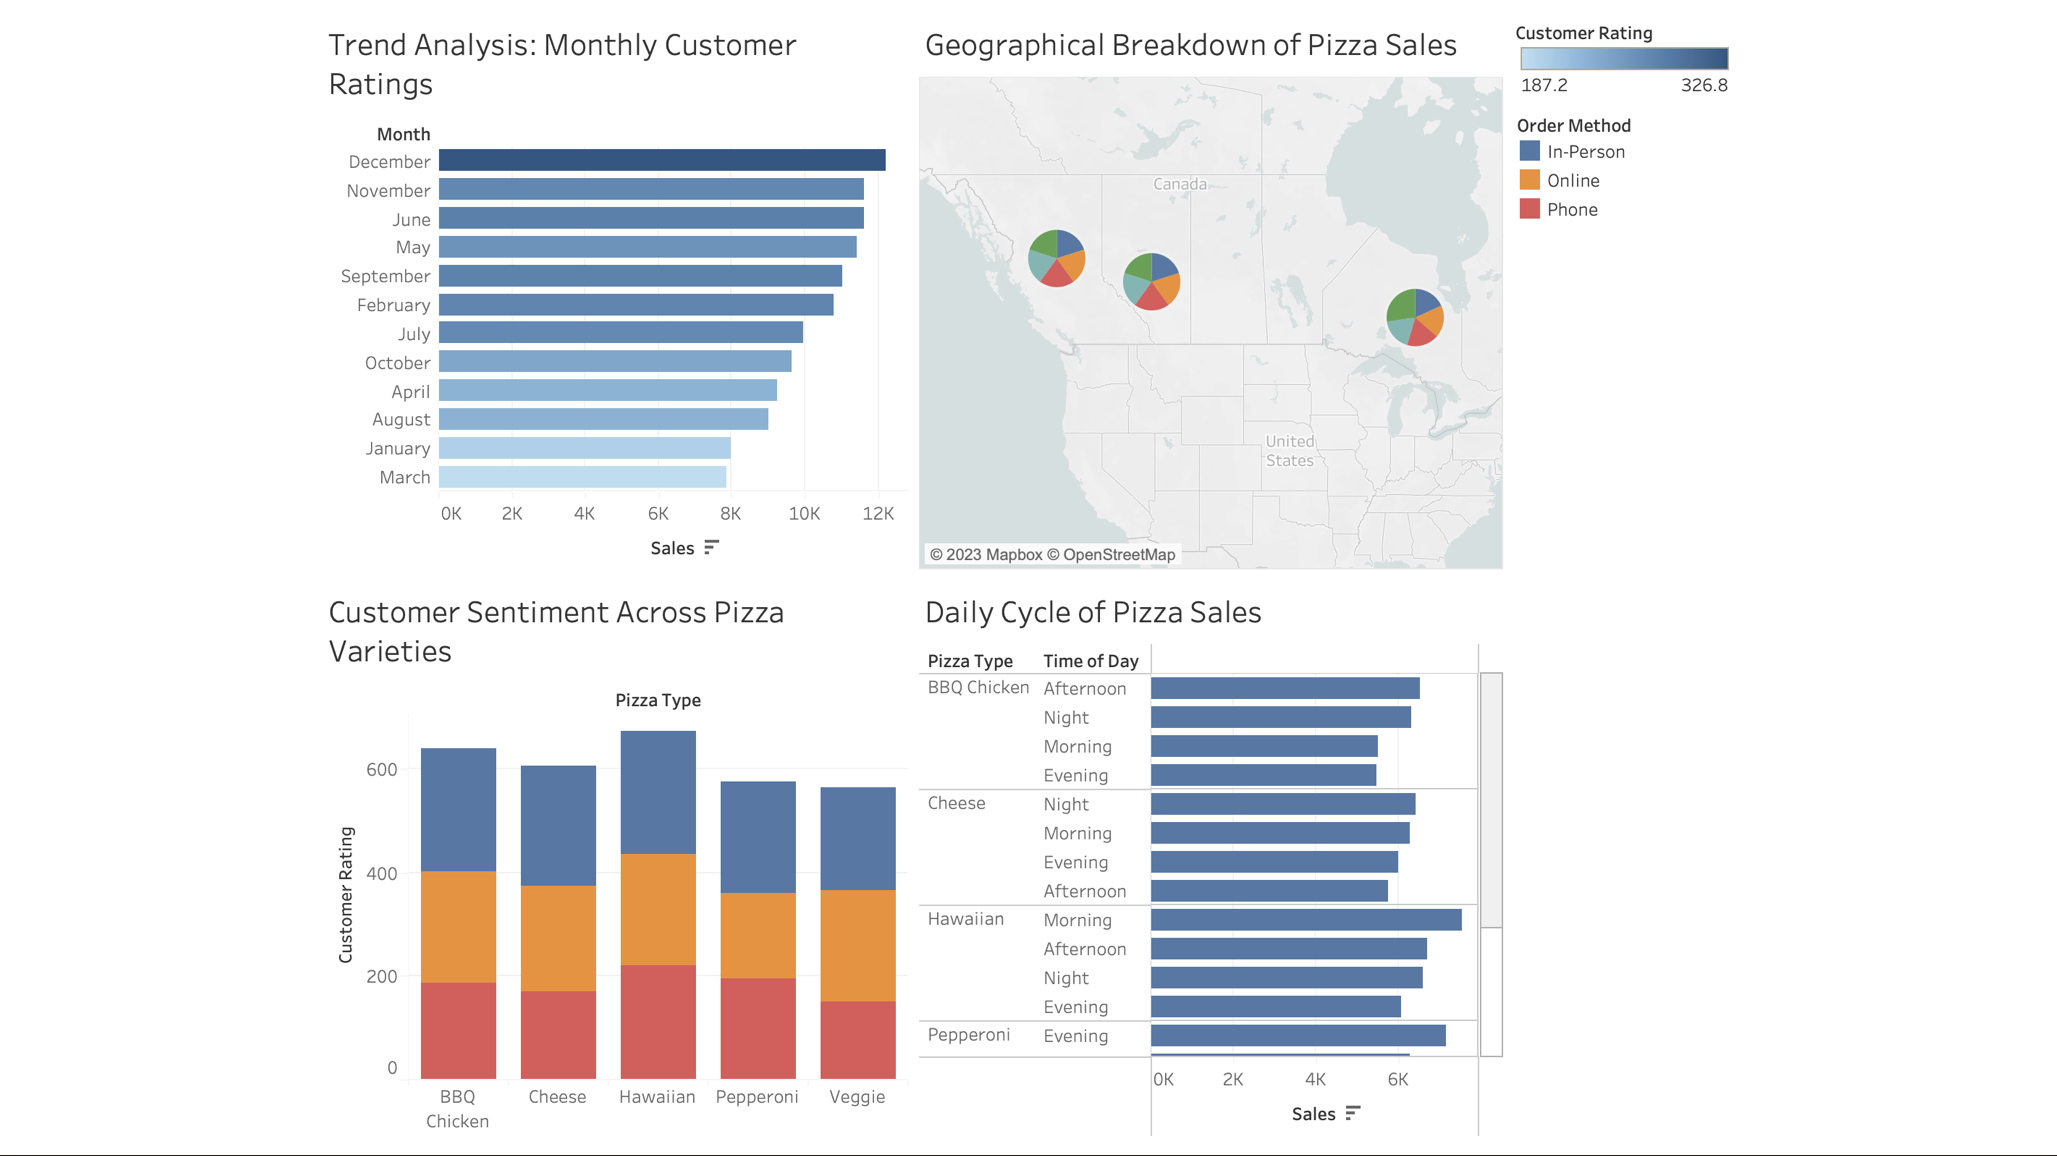

This screenshot's page, from the dashboard's own definition file:
{"tool":"tableau","page":{"name":"Panago Pizza Performance Dashboard","canvas":[1000,800],"ordinal":0},"visuals":[{"type":"worksheet","title":"Trend Analysis: Monthly Customer Ratings","mark":"Automatic","rows":["Month"],"cols":["Sales"],"box":[8,8,412,392]},{"type":"worksheet","title":"Geographical Breakdown of Pizza Sales","mark":"Pie","box":[420,8,412,392]},{"type":"legend","title":"Trend Analysis: Monthly Customer Ratings","param":"[federated.1xw8c8p0v13wz613n7ztm1hf6mez].[sum:Customer Rating:qk]","box":[832,8,160,65]},{"type":"legend","title":"Customer Sentiment Across Pizza Varieties","param":"[federated.1xw8c8p0v13wz613n7ztm1hf6mez].[none:Order Method:nk]","box":[832,73,160,86]},{"type":"worksheet","title":"Customer Sentiment Across Pizza Varieties","mark":"Automatic","rows":["Customer Rating"],"cols":["Pizza Type"],"box":[8,400,412,392]},{"type":"worksheet","title":"Daily Cycle of Pizza Sales","mark":"Automatic","rows":["Pizza Type","Time of Day"],"cols":["Sales"],"box":[420,400,412,392]}]}

Visuals, with their boxes on the page's 1000x800 design canvas (x1, y1, x2, y2). These are canvas units, not pixel positions in the 2057x1156 screenshot, which may show the page scaled, cropped or inside an application window:
"Trend Analysis: Monthly Customer Ratings" worksheet: box=[8, 8, 420, 400]
"Geographical Breakdown of Pizza Sales" worksheet (Pie marks): box=[420, 8, 832, 400]
"Trend Analysis: Monthly Customer Ratings" legend: box=[832, 8, 992, 73]
"Customer Sentiment Across Pizza Varieties" legend: box=[832, 73, 992, 159]
"Customer Sentiment Across Pizza Varieties" worksheet: box=[8, 400, 420, 792]
"Daily Cycle of Pizza Sales" worksheet: box=[420, 400, 832, 792]
